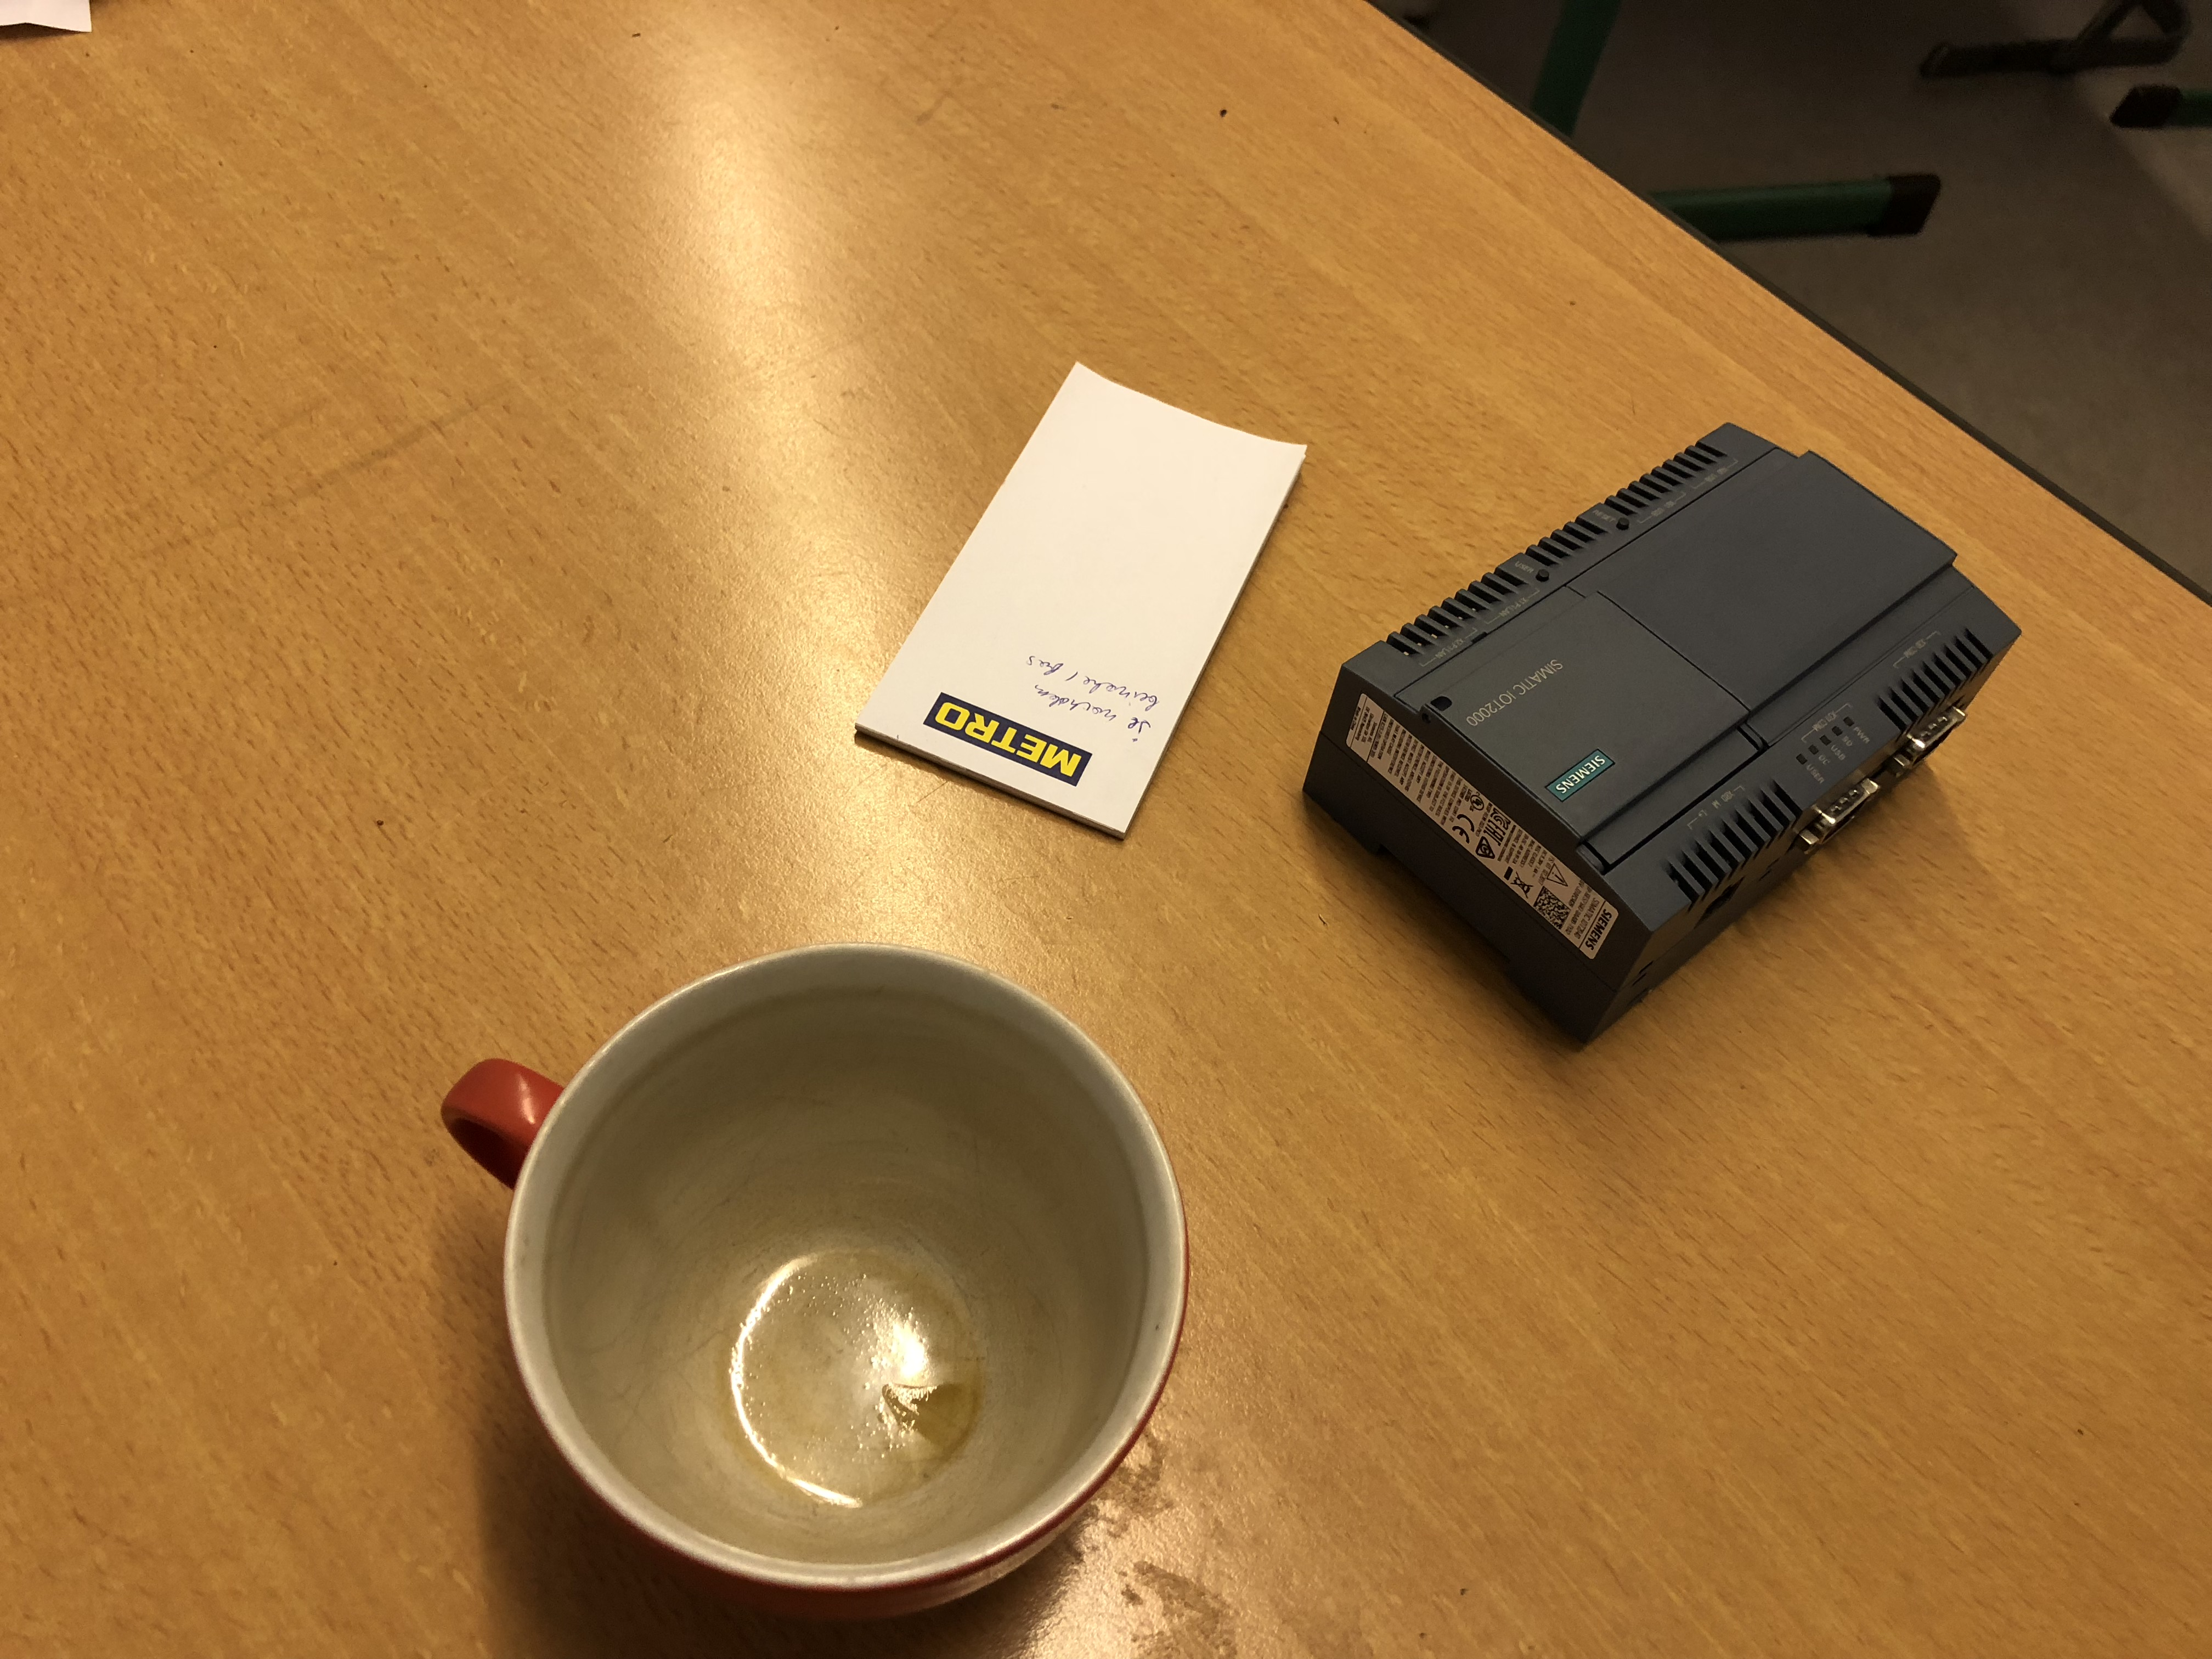device: (1301, 422, 2022, 1046)
